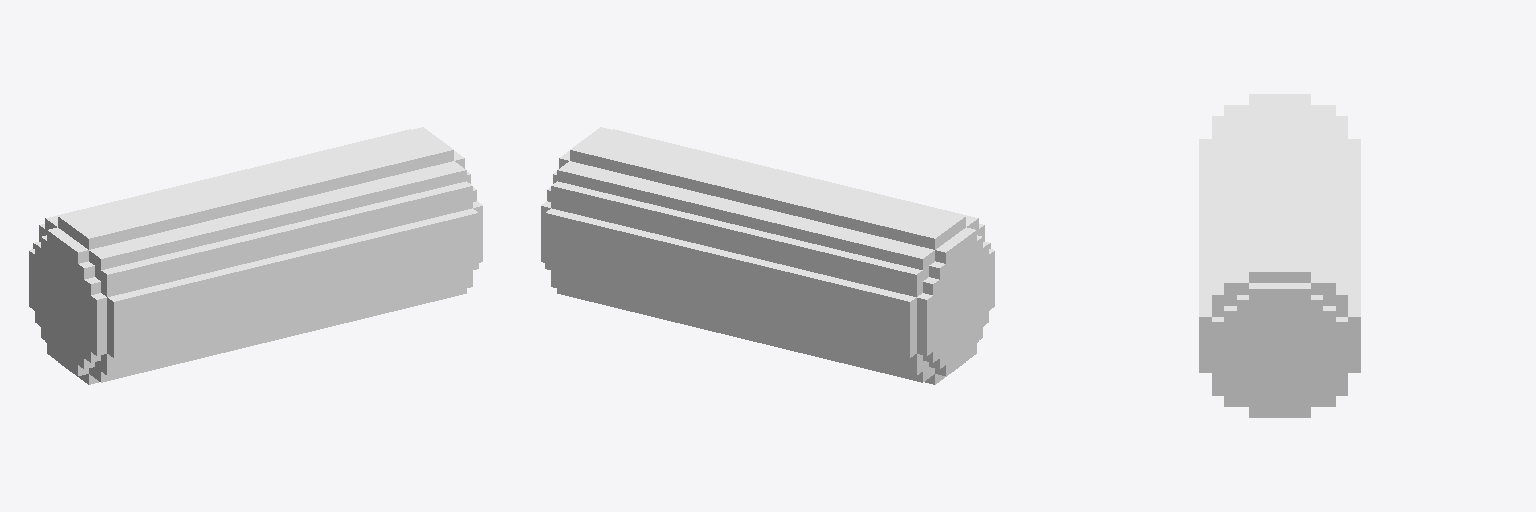
Rendered from ram-center.obj.
3 views of the same model, side by side, from view 1: azimuth 30°, elevation 25°; view 2: azimuth 150°, elevation 25°; view 3: azimuth 270°, elevation 25° (orthographic).
Size of the model in its own units: 36 by 13 by 13.